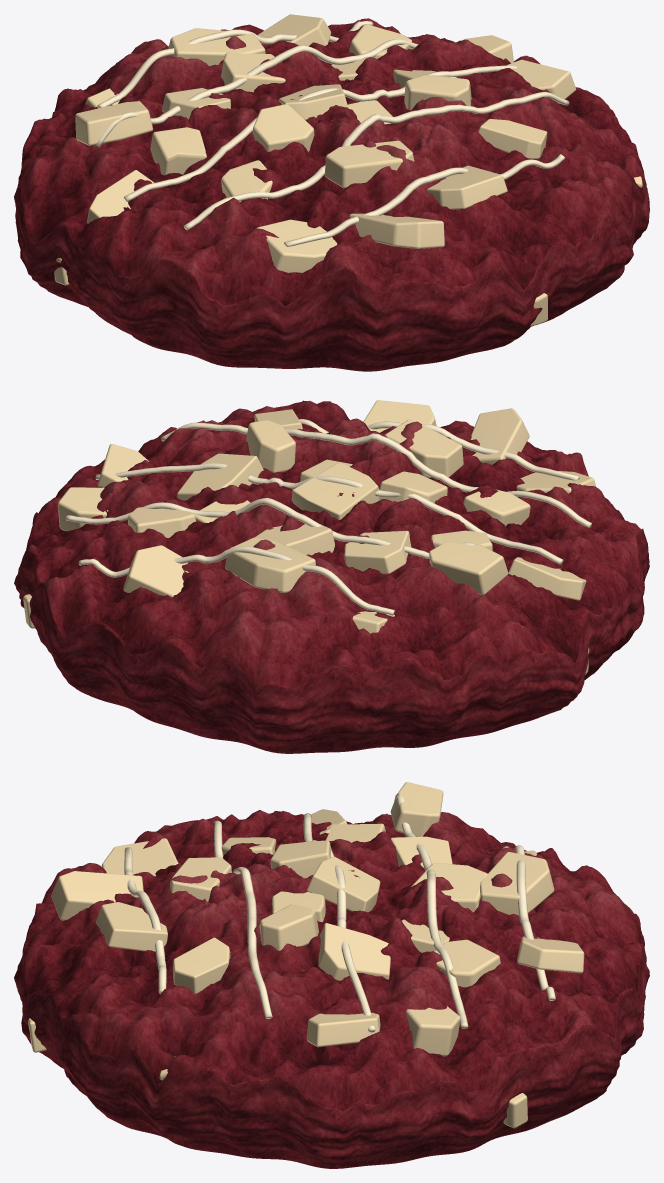
Rendered from tem_red-velvet.glb.
The picture shows the model from 3 angles, top to bottom: view 1: azimuth 30°, elevation 25°; view 2: azimuth 150°, elevation 25°; view 3: azimuth 270°, elevation 25°; orthographic projection. The views are drawn at different scales.
Parts seen in each view (by area): view 1: Baked porous crumb, White chocolate, Cream cheese drizzle; view 2: Baked porous crumb, White chocolate, Cream cheese drizzle; view 3: Baked porous crumb, White chocolate, Cream cheese drizzle.
Part boxes in pixels (<box>): Baked porous crumb: <box>14,18,649,371</box>; White chocolate: <box>54,14,642,326</box>; Cream cheese drizzle: <box>95,21,569,246</box>; Baked porous crumb: <box>14,400,649,753</box>; White chocolate: <box>23,400,595,674</box>; Cream cheese drizzle: <box>65,419,591,615</box>; Baked porous crumb: <box>14,810,649,1168</box>; White chocolate: <box>28,782,584,1128</box>; Cream cheese drizzle: <box>124,794,555,1032</box>.
Size of the model in its own units: 0.093 by 0.028 by 0.0903.
4 materials, 2 textured.
